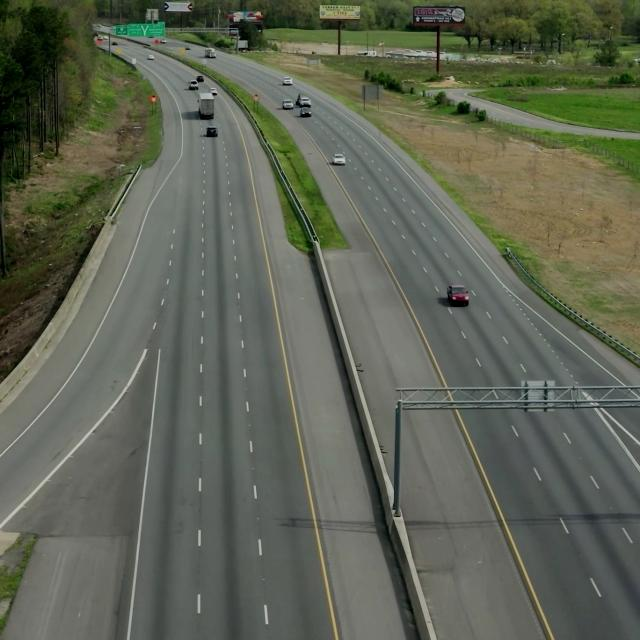Vehicle: (442, 280, 470, 308)
